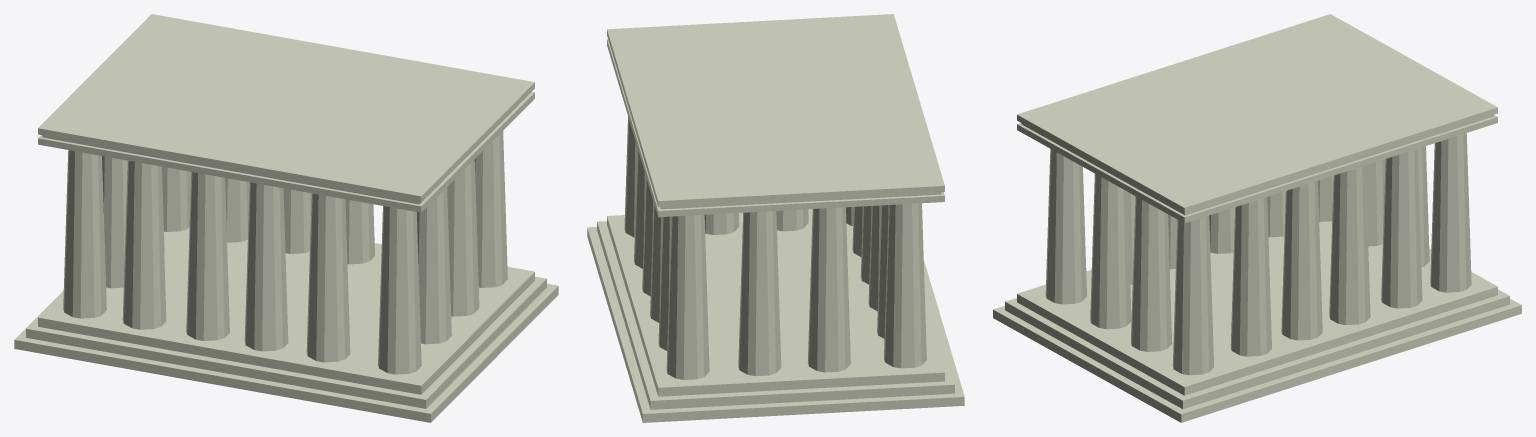
Rendered from templeofAphaea.fbx.
3 views of the same model, side by side, from view 1: azimuth 30°, elevation 25°; view 2: azimuth 150°, elevation 25°; view 3: azimuth 270°, elevation 25° (orthographic). The views are drawn at different scales.
Parts seen in each view (by area): view 1: templeRoof_geo, templeStairs_geo, leftColumn_2_geo, leftColumn_3_geo, leftColumn_1_geo, leftColumn_4_geo, frontColumn_1_geo, backColumn_1_geo, frontColumn_2_geo, frontColumn_4_geo, frontColumn_3_geo, backColumn_2_geo (+4 smaller); view 2: templeRoof_geo, templeStairs_geo, backColumn_1_geo, backColumn_2_geo, backColumn_3_geo, backColumn_4_geo, rightColumn_4_geo, frontColumn_4_geo, leftColumn_2_geo, rightColumn_3_geo, leftColumn_3_geo, rightColumn_1_geo (+5 smaller); view 3: templeRoof_geo, templeStairs_geo, frontColumn_4_geo, backColumn_4_geo, rightColumn_2_geo, rightColumn_4_geo, rightColumn_3_geo, rightColumn_1_geo, frontColumn_2_geo, frontColumn_3_geo, frontColumn_1_geo, backColumn_2_geo (+5 smaller).
Boxes of the visible parts, box(x1,y1,x2,y2) form: templeRoof_geo: box(38, 14, 534, 212); templeStairs_geo: box(14, 227, 558, 422); leftColumn_2_geo: box(122, 160, 166, 329); leftColumn_3_geo: box(186, 172, 229, 340); leftColumn_1_geo: box(306, 193, 350, 362); leftColumn_4_geo: box(244, 182, 288, 351); frontColumn_1_geo: box(378, 206, 421, 374); backColumn_1_geo: box(63, 150, 106, 318); frontColumn_2_geo: box(417, 187, 451, 344); frontColumn_4_geo: box(474, 131, 507, 287); frontColumn_3_geo: box(447, 159, 479, 316); backColumn_2_geo: box(102, 156, 127, 288); templeRoof_geo: box(607, 14, 944, 217); templeStairs_geo: box(587, 209, 964, 422); backColumn_1_geo: box(884, 203, 926, 368); backColumn_2_geo: box(807, 207, 850, 372); backColumn_3_geo: box(738, 211, 781, 376); backColumn_4_geo: box(666, 215, 709, 379); rightColumn_4_geo: box(658, 216, 671, 350); frontColumn_4_geo: box(624, 116, 637, 237); leftColumn_2_geo: box(877, 205, 888, 338); rightColumn_3_geo: box(650, 202, 662, 322); leftColumn_3_geo: box(868, 205, 880, 311); rightColumn_1_geo: box(634, 149, 645, 268); templeRoof_geo: box(1017, 14, 1497, 223); templeStairs_geo: box(993, 221, 1521, 422); frontColumn_4_geo: box(1172, 215, 1213, 375); backColumn_4_geo: box(1430, 133, 1471, 292); rightColumn_2_geo: box(1281, 181, 1322, 340); rightColumn_4_geo: box(1381, 149, 1422, 308); rightColumn_3_geo: box(1329, 165, 1370, 324); rightColumn_1_geo: box(1230, 197, 1271, 356); frontColumn_2_geo: box(1090, 173, 1131, 329); frontColumn_3_geo: box(1131, 196, 1172, 351); frontColumn_1_geo: box(1045, 149, 1086, 304); backColumn_2_geo: box(1365, 159, 1385, 246).
Size of the model in its own units: 15.1 by 6.74 by 15.76.
